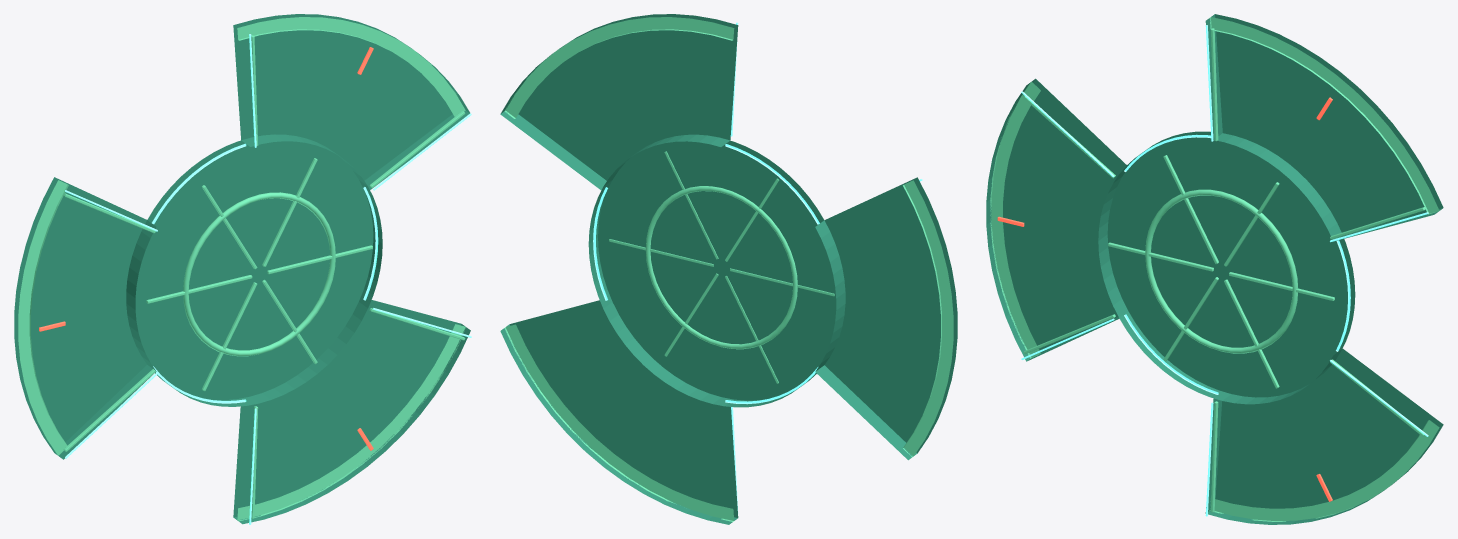
File: bio-panel-fun3-high.glb
The picture shows the model from 3 angles, left to right: view 1: azimuth 30°, elevation 25°; view 2: azimuth 150°, elevation 25°; view 3: azimuth 330°, elevation 25°; orthographic projection.
Parts seen in each view (by area): view 1: RENDER_PANEL_SHELL, RENDER_PANEL_FRAME, RENDER_PANEL_SIGNAL; view 2: RENDER_PANEL_SHELL, RENDER_PANEL_FRAME, RENDER_PANEL_SIGNAL; view 3: RENDER_PANEL_SHELL, RENDER_PANEL_FRAME, RENDER_PANEL_SIGNAL.
Part boxes in pixels (box(x1,y1,x2,y2)): RENDER_PANEL_SHELL: box(14, 14, 470, 524); RENDER_PANEL_FRAME: box(18, 17, 465, 521); RENDER_PANEL_SIGNAL: box(65, 34, 471, 524); RENDER_PANEL_SHELL: box(500, 14, 957, 524); RENDER_PANEL_FRAME: box(504, 17, 953, 521); RENDER_PANEL_SIGNAL: box(593, 22, 922, 513); RENDER_PANEL_SHELL: box(986, 14, 1443, 524); RENDER_PANEL_FRAME: box(990, 17, 1439, 521); RENDER_PANEL_SIGNAL: box(1021, 25, 1428, 516).
Size of what is drawn, in the model's own units: 38.9 by 40.99 by 1.95.
